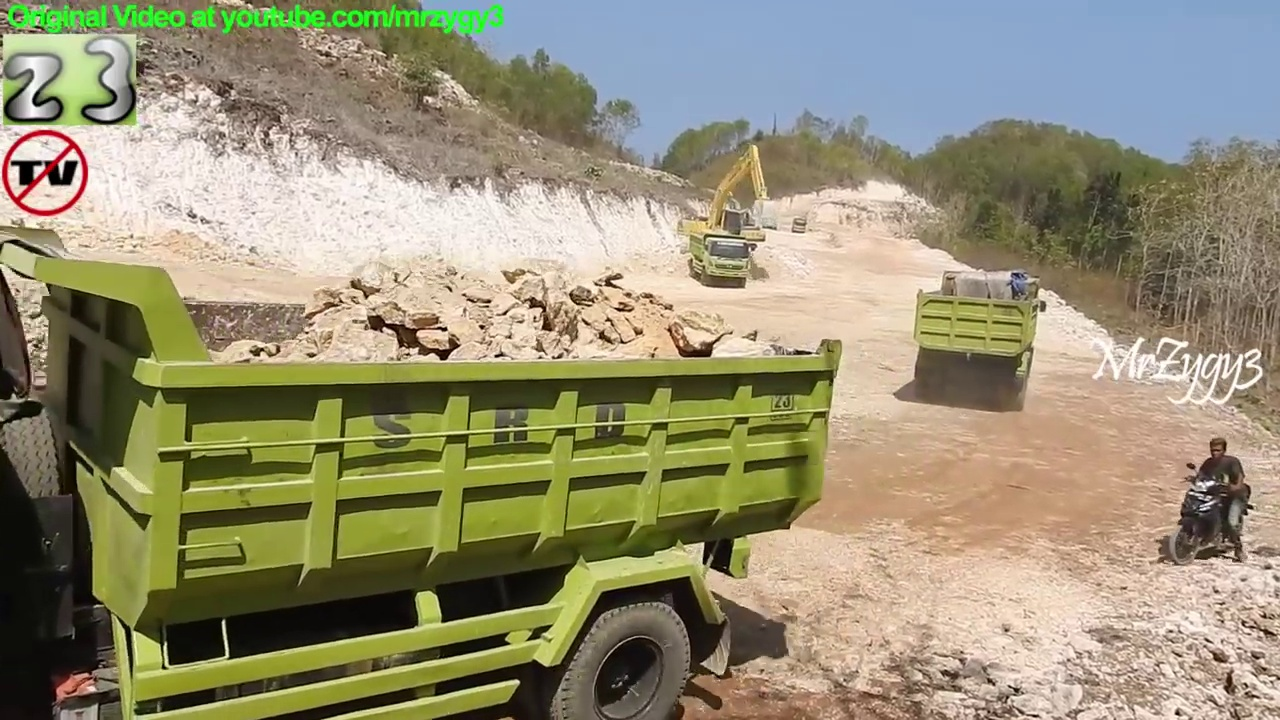excavator: (681, 141, 781, 252)
truck: (1, 223, 846, 720), (913, 267, 1047, 412), (686, 231, 758, 290), (788, 214, 809, 237)
